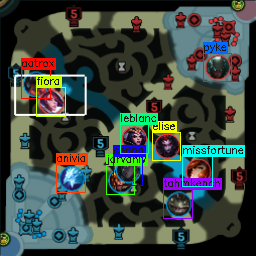aatrox: (23, 71, 47, 96)
anivia: (59, 166, 83, 189)
elise: (153, 133, 178, 157)
fiora: (38, 89, 64, 113)
jarvaniv: (108, 169, 131, 192)
leblanc: (121, 125, 146, 150)
missfortune: (185, 159, 211, 184)
pyke: (204, 54, 229, 79)
senna: (115, 158, 140, 182)
tahmkench: (166, 191, 190, 216)
